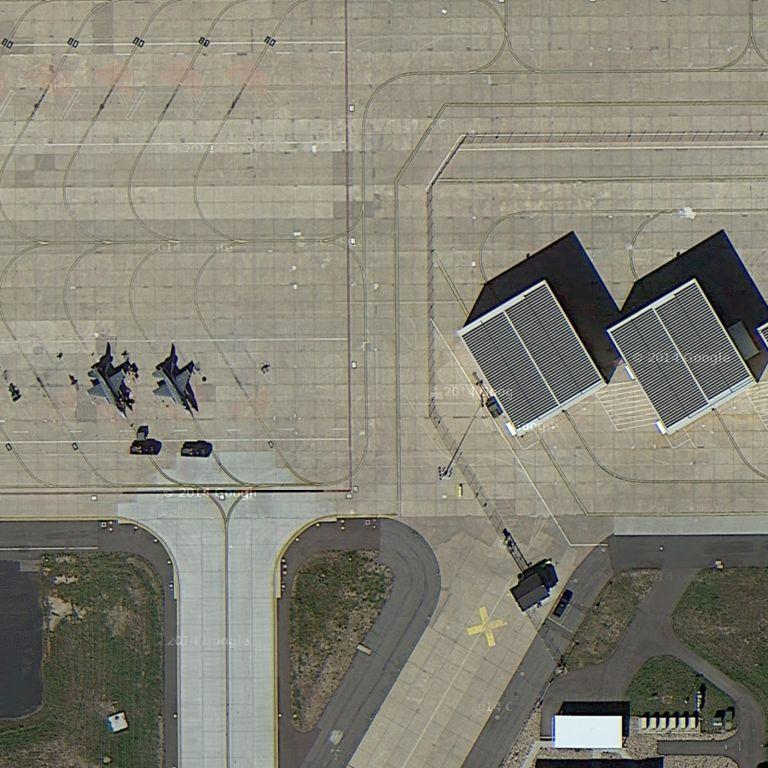F-16: (147, 355, 202, 417), (81, 358, 134, 421)
